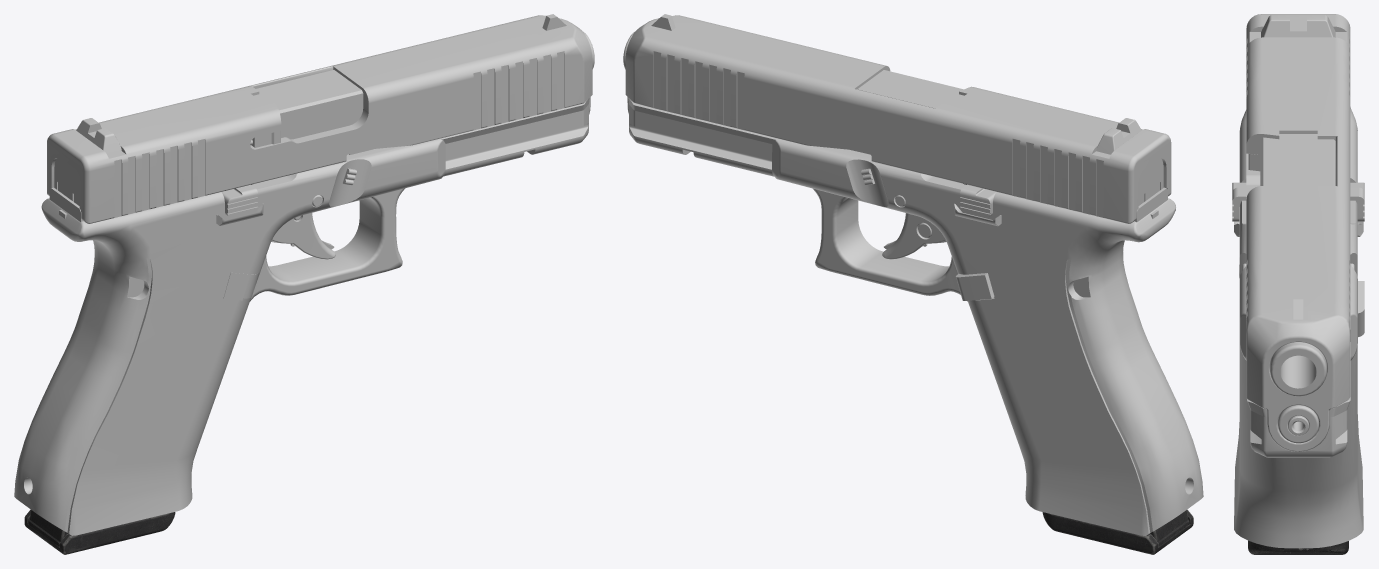
3 renders of one model, left to right at view 1: azimuth 30°, elevation 25°; view 2: azimuth 150°, elevation 25°; view 3: azimuth 270°, elevation 25°, orthographic. The views are drawn at different scales.
Parts seen in each view (by area): view 1: gun_frame, gun_slide, gun_barrel, gun_magazine, gun_trigger_group; view 2: gun_frame, gun_slide, gun_magazine, gun_barrel, gun_trigger_group; view 3: gun_slide, gun_frame, gun_barrel, gun_magazine.
Boxes of the visible parts, x1,y1,x2,y2 form: gun_frame: (14,98,589,535); gun_slide: (47,14,592,223); gun_barrel: (254,31,594,154); gun_magazine: (24,184,251,554); gun_trigger_group: (271,213,335,259); gun_frame: (628,97,1203,535); gun_slide: (625,14,1171,223); gun_magazine: (963,183,1193,554); gun_barrel: (623,32,964,108); gun_trigger_group: (882,213,946,259); gun_slide: (1246,14,1350,451); gun_frame: (1232,107,1364,548); gun_barrel: (1260,134,1335,396); gun_magazine: (1248,540,1348,554).
Size of the model in its own units: 0.2027 by 0.1398 by 0.033.
